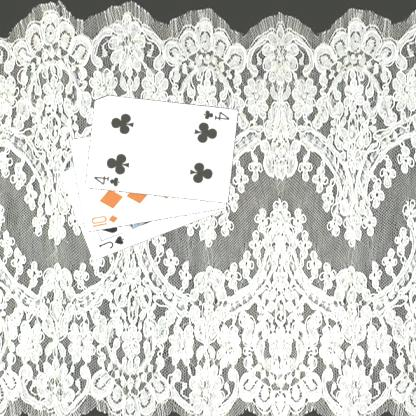10D: (88, 212, 119, 229)
4C: (90, 173, 121, 188), (200, 107, 231, 122)
JS: (96, 232, 126, 250)
